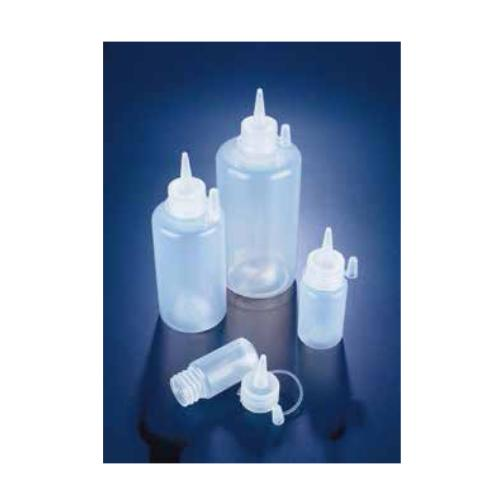HDPE: (241, 356, 305, 422)
LDPE: (217, 87, 301, 296), (150, 150, 226, 332), (297, 227, 357, 351), (170, 338, 255, 407)
